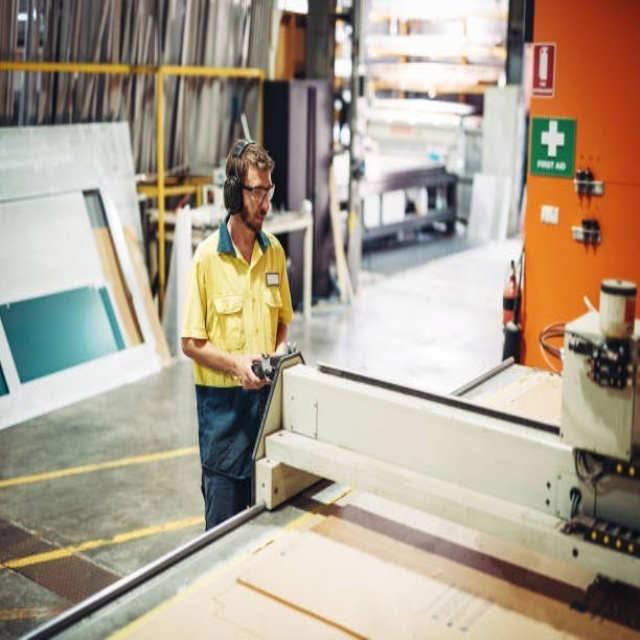Gafas: (241, 182, 276, 203)
Sin_guantes: (232, 353, 270, 390)
Sin_mascara: (250, 207, 268, 232)
